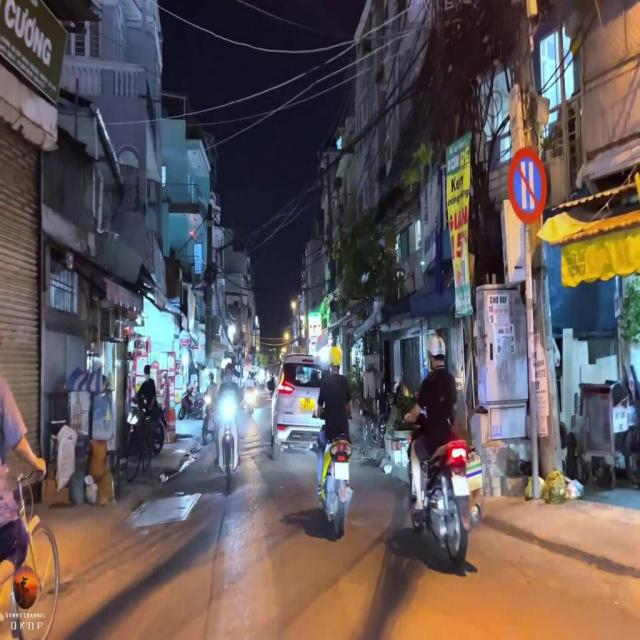cam_do_xe: (507, 147, 548, 225)
